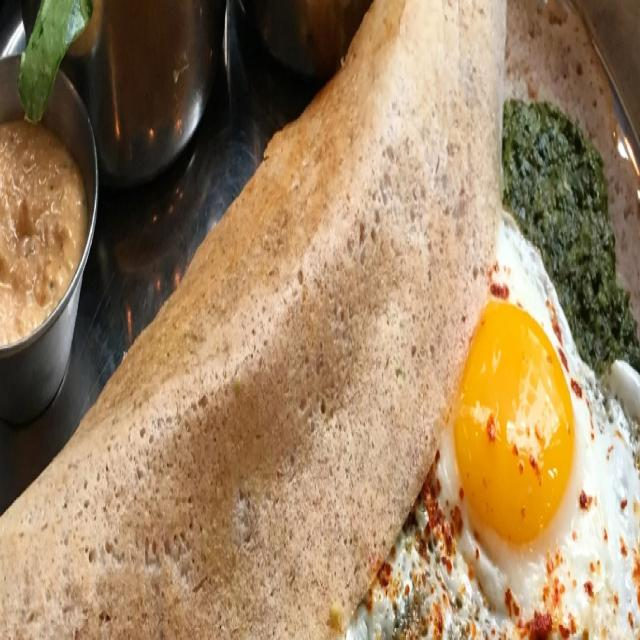DOSA: (0, 1, 507, 637)
EGG: (349, 231, 635, 633)
GREEN CHUTNEY: (505, 100, 639, 377)
